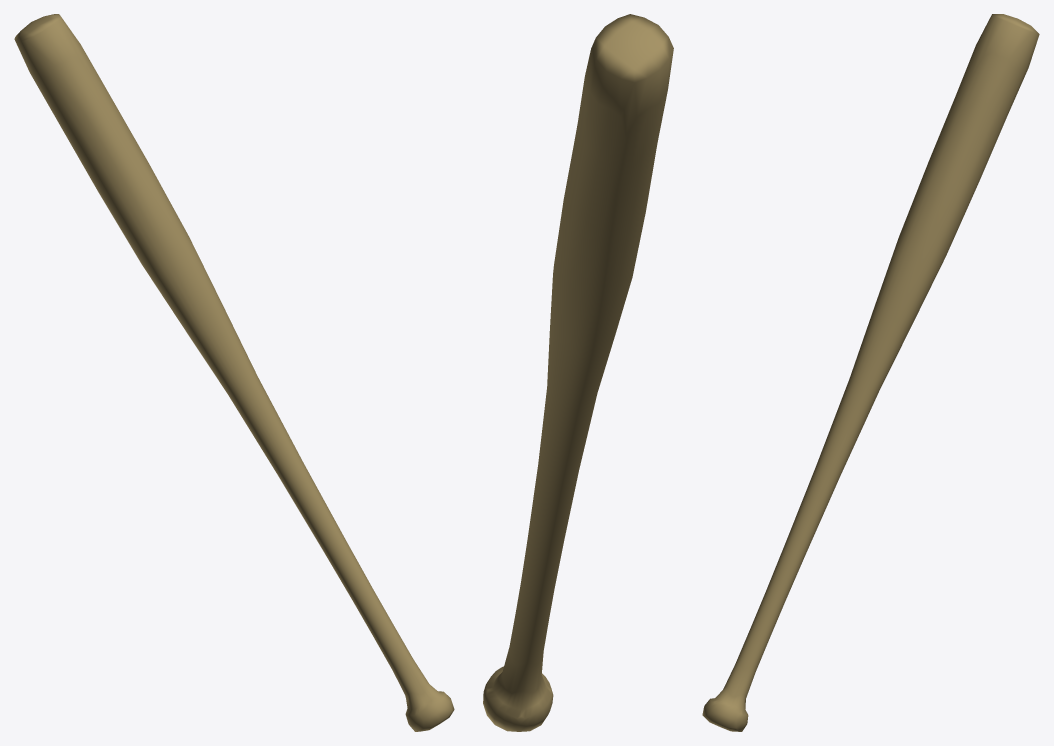
The model's file is Jack_IdleBat.fbx.
3 renders of one model, left to right at view 1: azimuth 30°, elevation 25°; view 2: azimuth 150°, elevation 25°; view 3: azimuth 270°, elevation 25°, orthographic. The views are drawn at different scales.
Parts seen in each view (by area): view 1: BaseballBat; view 2: BaseballBat; view 3: BaseballBat.
Boxes of the visible parts, x1,y1,x2,y2 form: BaseballBat: (14, 14, 454, 731); BaseballBat: (483, 14, 673, 731); BaseballBat: (702, 14, 1039, 731).
Bounding box in the file's own units: 36.67 × 82.73 × 41.24.
